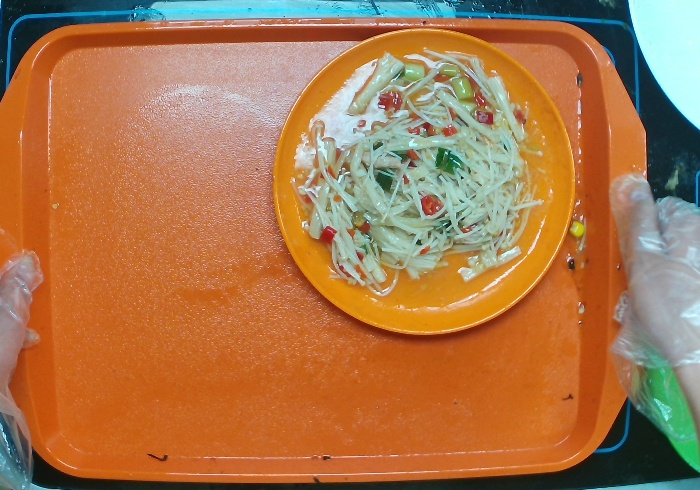HZYJPL-Ju_Huang_Yuan_Pan: (266, 25, 581, 341)
